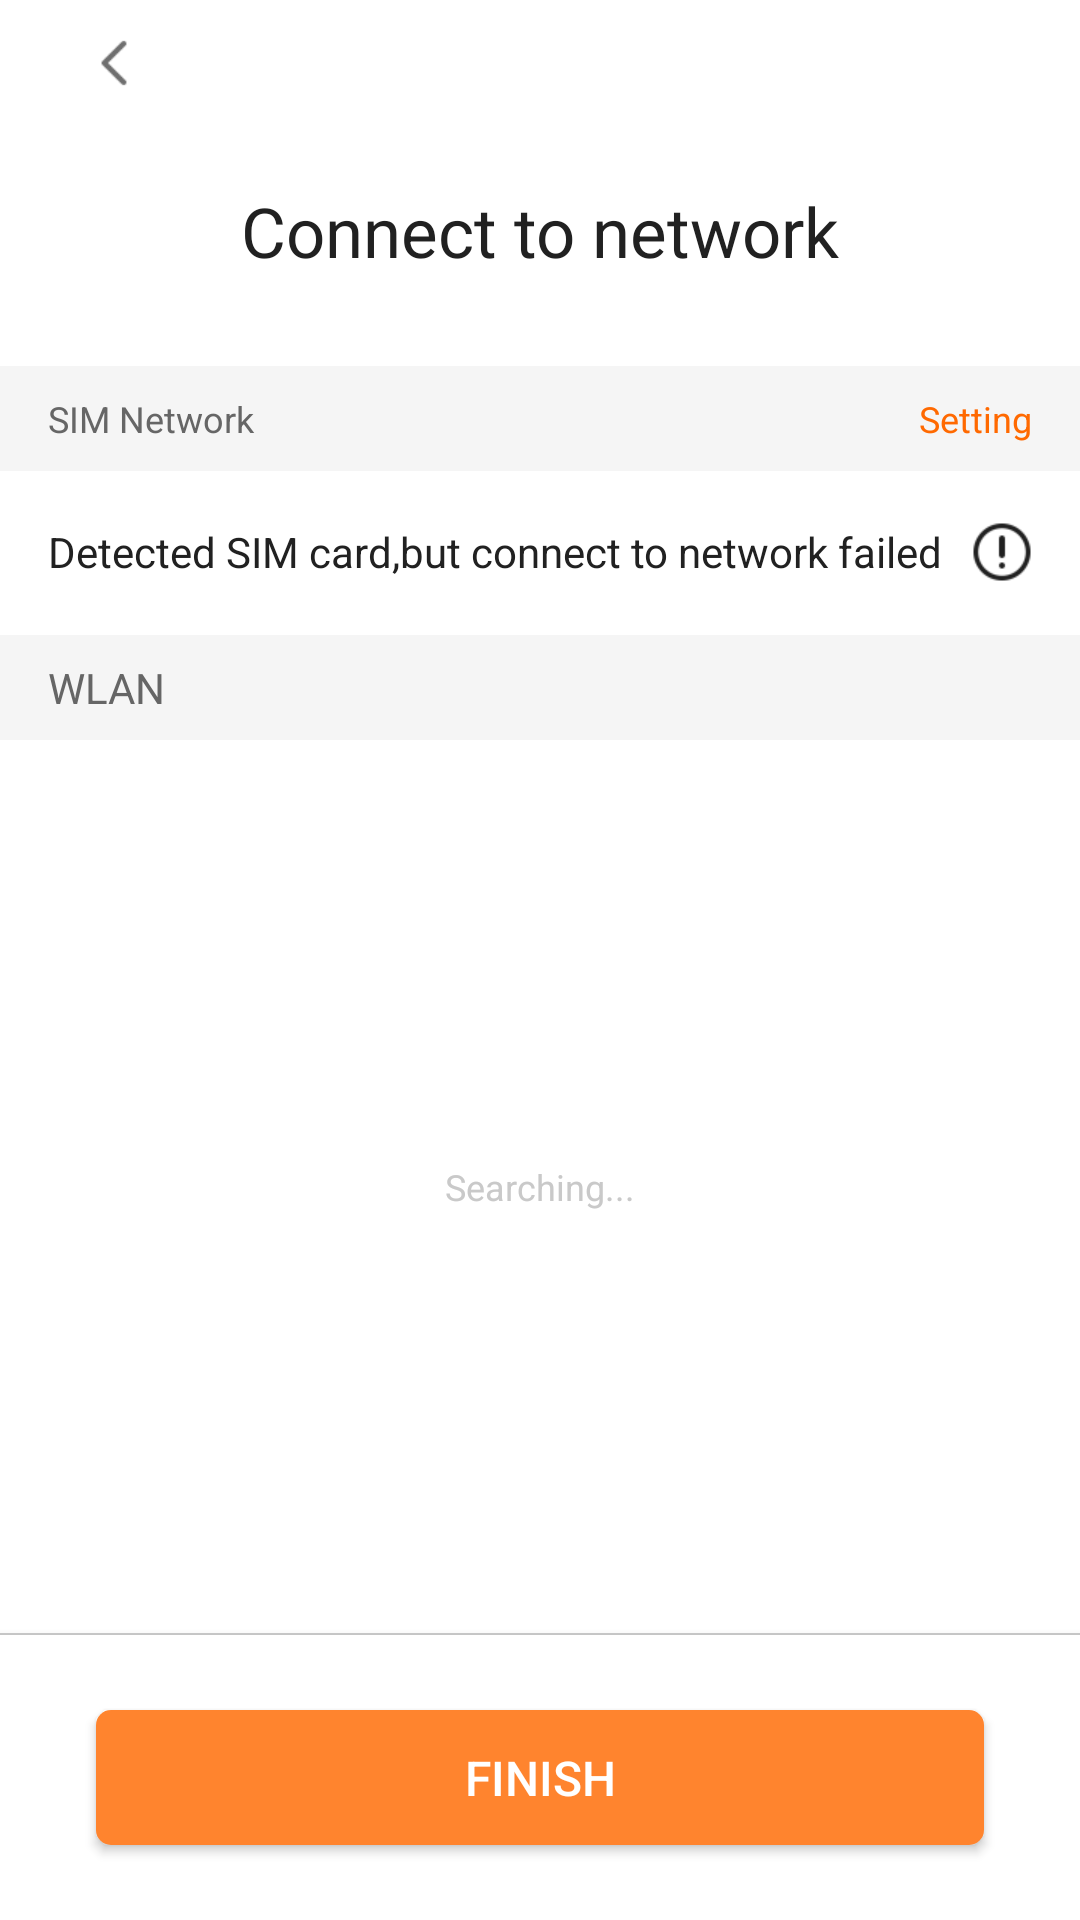

Icons on this 1080*1920 Android screen, each with its box as (x1, y1, x2, y2):
back: (101, 41, 127, 85)
sim unknown: (973, 523, 1031, 581)
